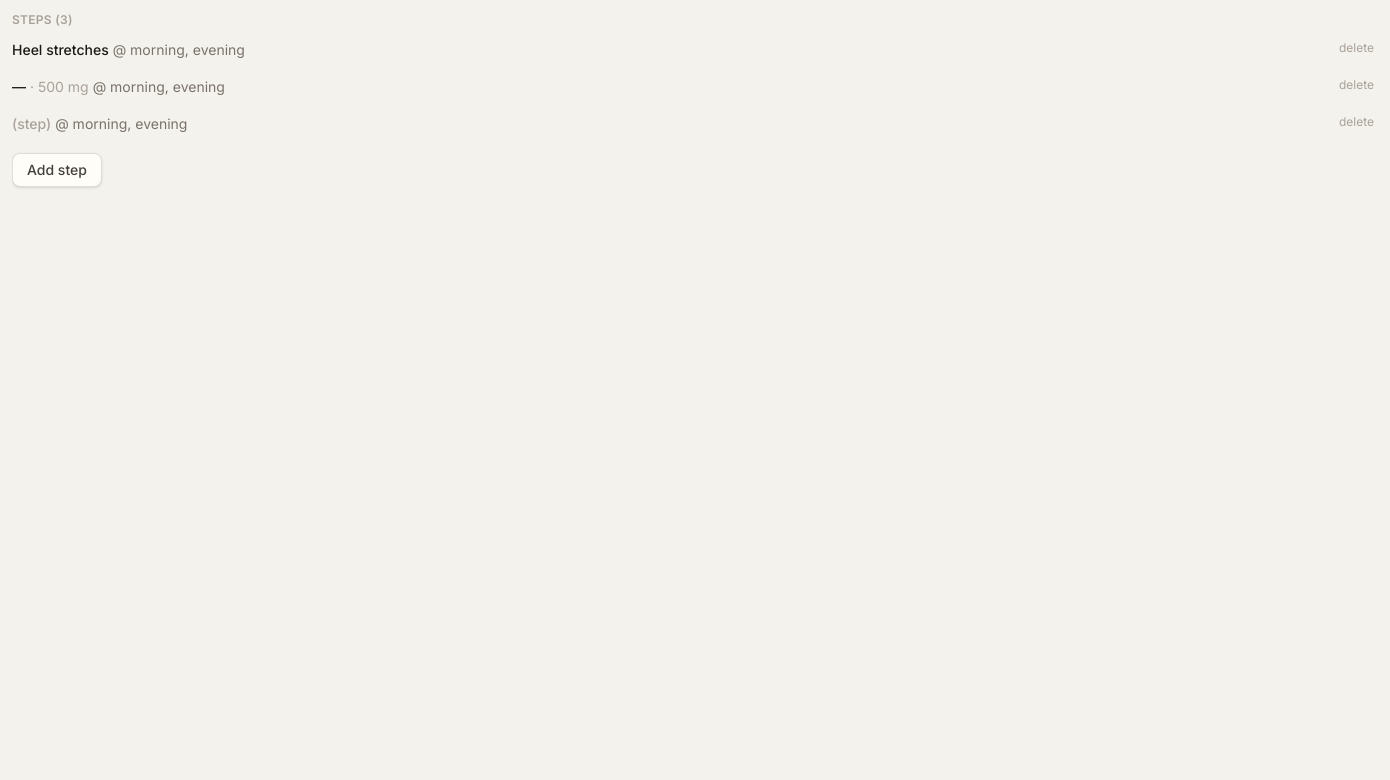
Test: protocol steps › opens a just-added step as a dose, and lets the toggle move
Step 1. Click the text "(step)" → (32, 124), box [12,115,51,132]
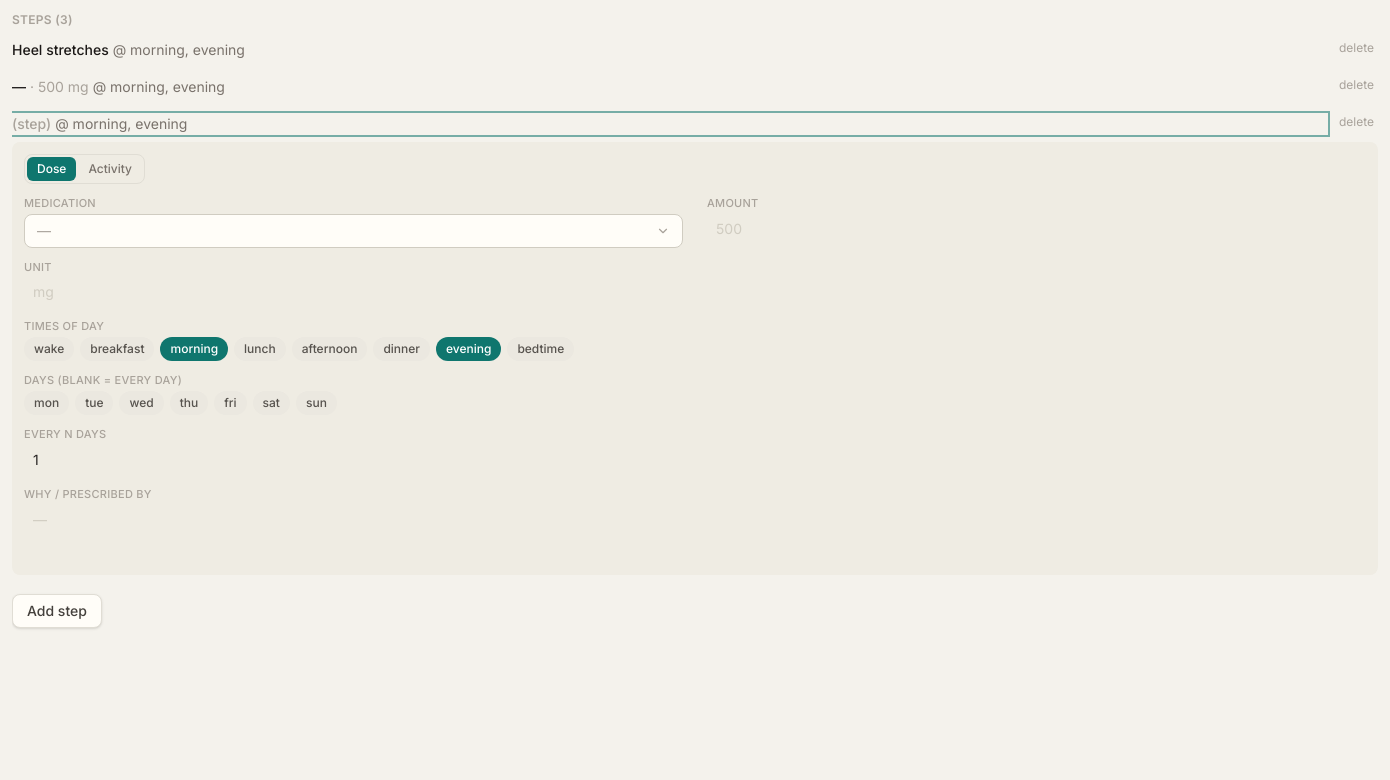
Expected: the number field with placeholder "500" is shown, [707,214,1366,244]
Step 2. Click the button "Activity" → (110, 169), box [78,157,142,181]
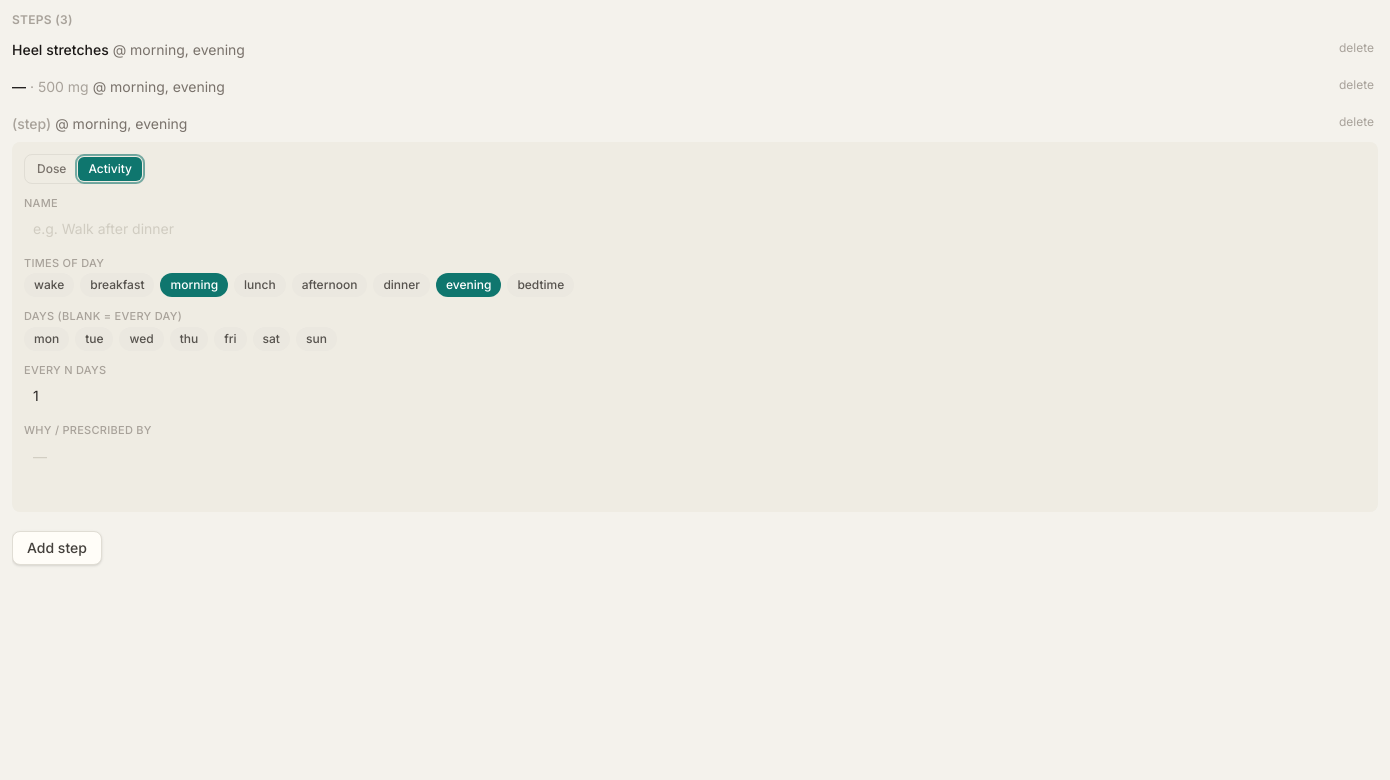
Expected: the field with placeholder "e.g. Walk after dinner" is shown, [24,214,1366,244]
Step 3. Click the button "Dose" → (52, 169), box [27,157,76,181]
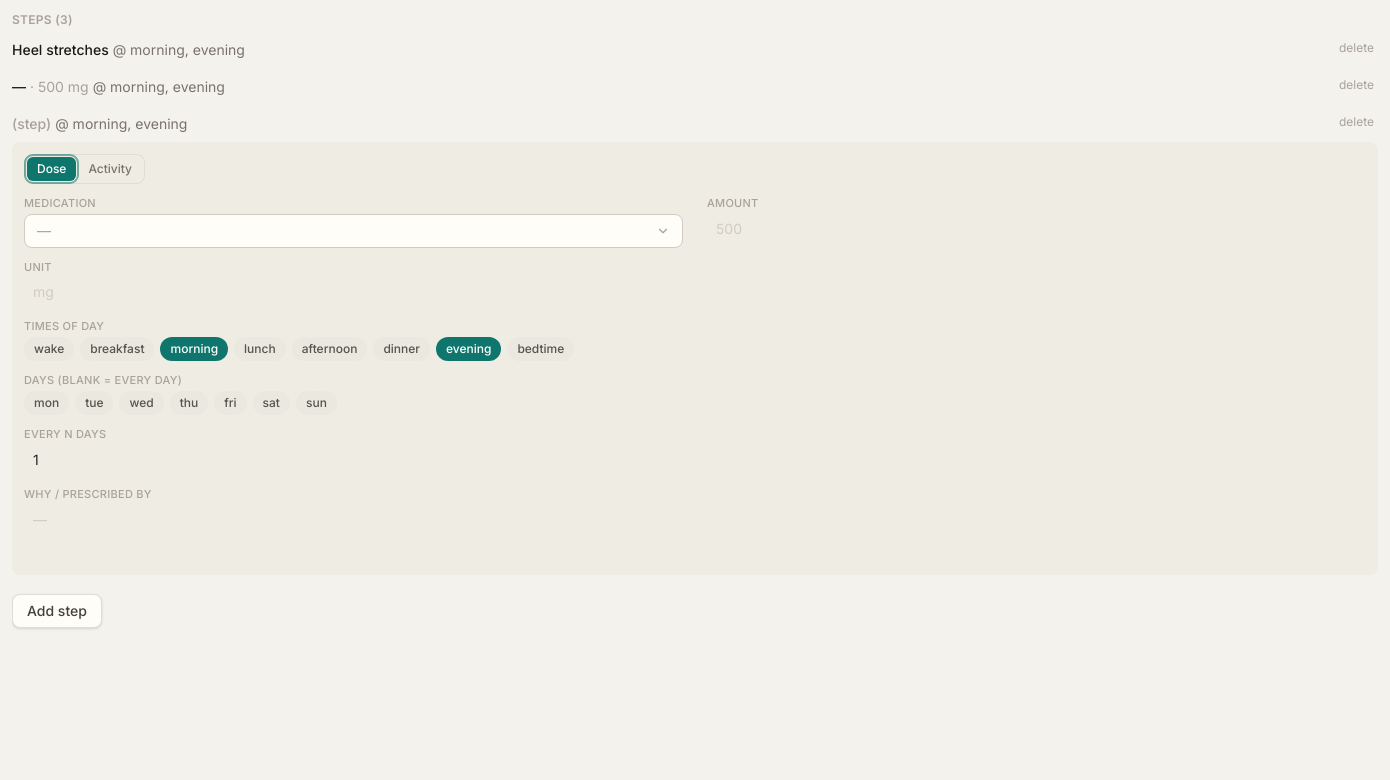
Expected: the number field with placeholder "500" is shown, [707,214,1366,244]
